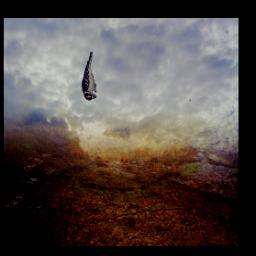Woodpecker: (82, 53, 97, 102)
